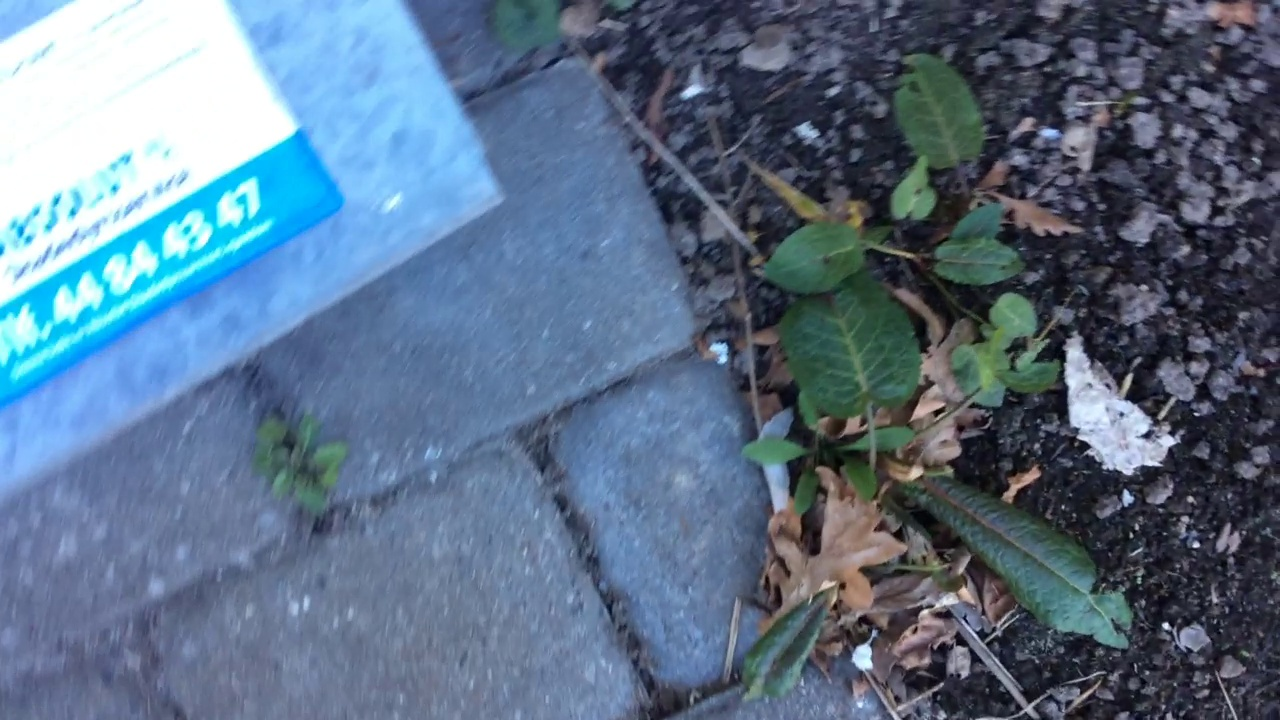rumex: (761, 271, 1152, 652), (751, 44, 1042, 291)
